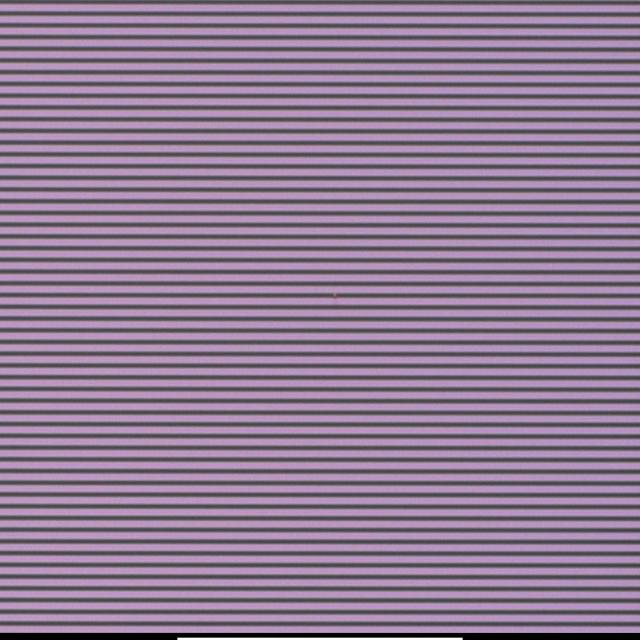nonvisual: (328, 288, 341, 303)
